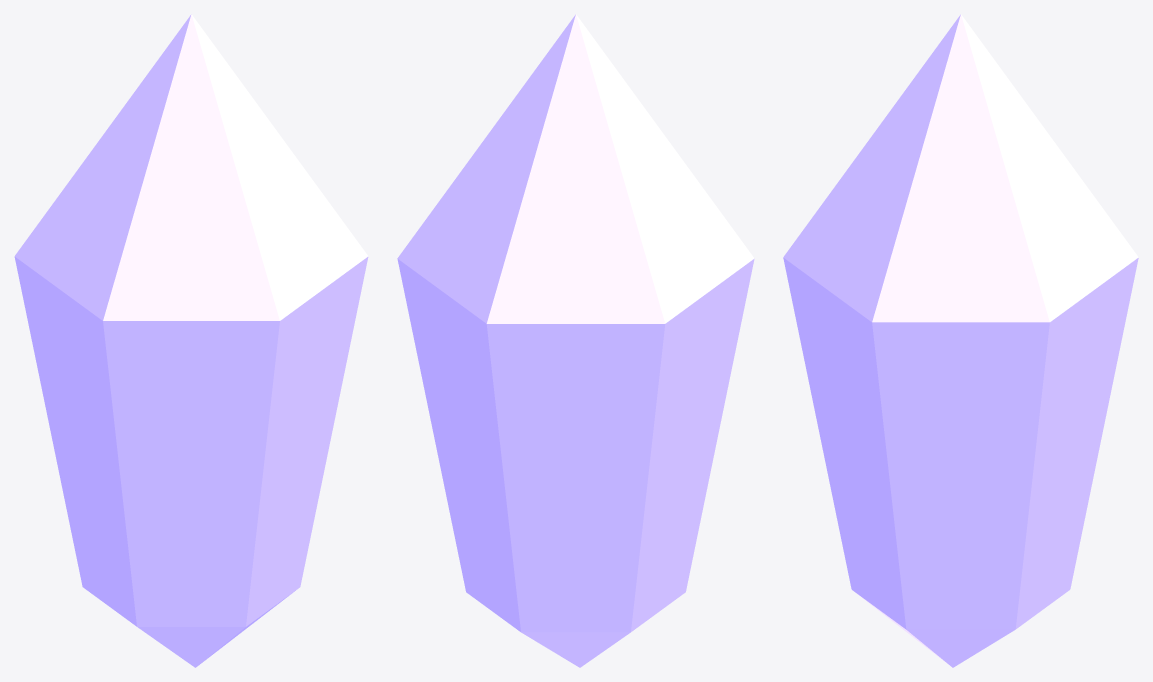
Rendered from crystal1.fbx.
The picture shows the model from 3 angles, left to right: view 1: azimuth 30°, elevation 25°; view 2: azimuth 150°, elevation 25°; view 3: azimuth 270°, elevation 25°; orthographic projection.
Visible parts, largest first — view 1: crystal1; view 2: crystal1; view 3: crystal1.
Part boxes in pixels (x1,y1,x2,y2): crystal1: [14, 14, 368, 667]; crystal1: [397, 14, 754, 667]; crystal1: [783, 14, 1138, 667].
Bounding box in the file's own units: 173 × 406 × 200.
